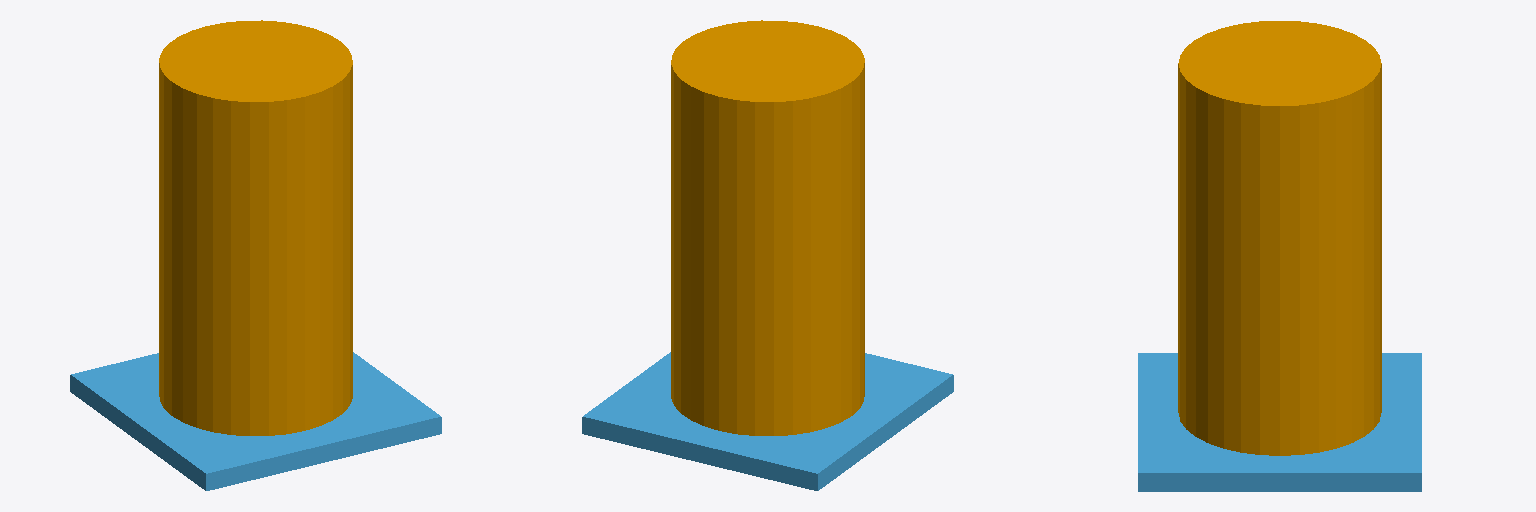
The robot description file, URDF, robot "robot":
<?xml version="1.0"?>
<robot name="robot">
    <link name="base_link">
        <visual>
            <geometry>
                <cylinder length="1" radius="0.25"/>
            </geometry>
            <origin rpy="0 0 0" xyz="0 0 0.5"/>
        </visual>
    </link>
    
    <joint name="base_to_plate" type="prismatic">
        <parent link="base_link"/>
        <child link="plate"/>
        <origin rpy="0 0 0" xyz="0 0 0"/>
        <axis xyz="0 0 1"/>
        <limit effort="1000.0" lower="0" upper="1" velocity="0.5"/>
    </joint>
    
    <link name="plate">
        <visual>
            <geometry>
                <box size="0.7 0.7 0.05"/>
            </geometry>
            <origin rpy="0 0 0" xyz="0 0 0.025"/>
        </visual>
    </link>
</robot>

--- Facts derived from the render (not from the file) ---
Views: 3 orthographic renders of the robot side by side, from view 1: azimuth 30°, elevation 25°; view 2: azimuth 150°, elevation 25°; view 3: azimuth 270°, elevation 25°.
Robot: robot — 2 links, 1 joints (1 prismatic); root link base_link; default pose: all joints at 0.
Visible links, largest first — view 1: base_link, plate; view 2: base_link, plate; view 3: base_link, plate.
Link boxes in pixels (x1,y1,x2,y2): base_link: (159,20,352,435); plate: (70,352,441,490); base_link: (671,20,864,435); plate: (582,352,953,490); base_link: (1178,21,1381,455); plate: (1138,353,1421,491).
Size in the robot's own frame: 0.7 by 0.7 by 1 metres.
Geometry: primitives only (box / cylinder / sphere), no mesh files.